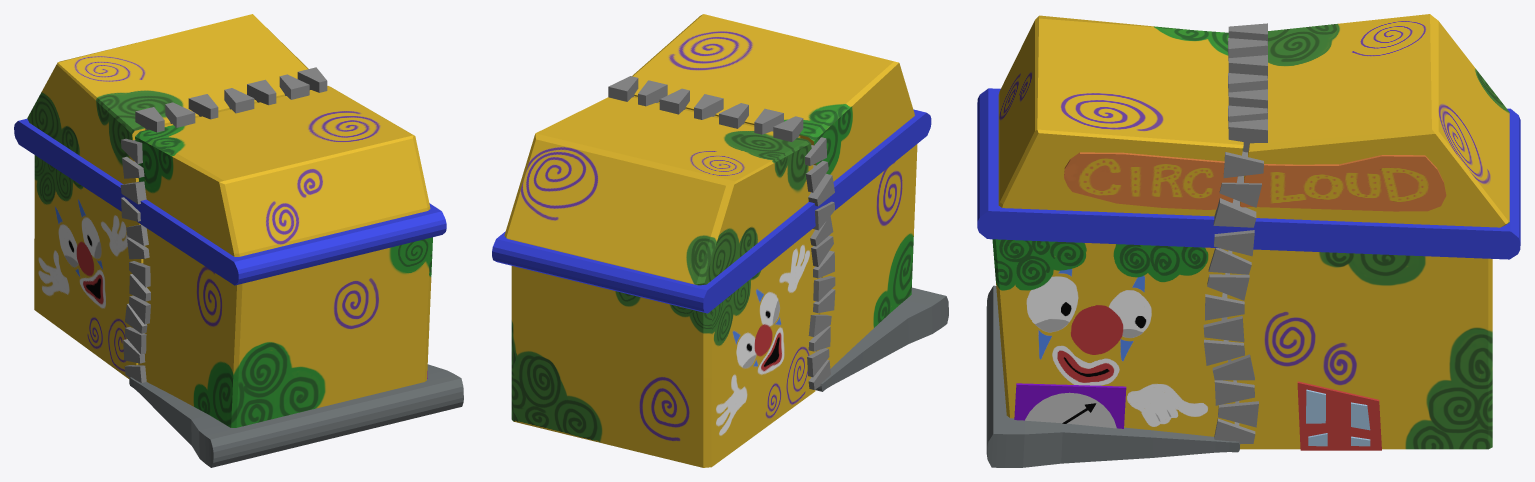
File: FBX_Company5.fbx
3 views of the same model, side by side, from view 1: azimuth 30°, elevation 25°; view 2: azimuth 150°, elevation 25°; view 3: azimuth 270°, elevation 25° (orthographic). The views are drawn at different scales.
Visible parts, largest first — view 1: Cube.094, Cube.092, Cube.093, Cube.095, Cube.205, Cube.200, Cube.203, Cube.204, Cube.206, Cube.202, Cube.201; view 2: Cube.092, Cube.094, Cube.093, Cube.095, Cube.203, Cube.202, Cube.201, Cube.206, Cube.200, Cube.205, Cube.204, Cube.139; view 3: Cube.092, Cube.094, Cube.093, Cube.110, Cube.095, Cube.113, Cube.111, Circle, Cube.106, Cube.201, Cube.100, Cube.108 (+17 smaller).
Boxes of the visible parts, x1=… form: Cube.094: x1=135, y1=86, x2=432, y2=427; Cube.092: x1=27, y1=14, x2=308, y2=378; Cube.093: x1=14, y1=118, x2=446, y2=285; Cube.095: x1=129, y1=364, x2=463, y2=467; Cube.205: x1=188, y1=94, x2=218, y2=119; Cube.200: x1=279, y1=74, x2=309, y2=99; Cube.203: x1=224, y1=88, x2=254, y2=113; Cube.204: x1=165, y1=102, x2=195, y2=127; Cube.206: x1=135, y1=107, x2=164, y2=132; Cube.202: x1=247, y1=79, x2=276, y2=105; Cube.201: x1=297, y1=67, x2=327, y2=92; Cube.092: x1=504, y1=97, x2=820, y2=467; Cube.094: x1=632, y1=14, x2=917, y2=368; Cube.093: x1=492, y1=109, x2=931, y2=313; Cube.095: x1=815, y1=287, x2=948, y2=391; Cube.203: x1=694, y1=94, x2=723, y2=119; Cube.202: x1=659, y1=88, x2=689, y2=114; Cube.201: x1=608, y1=76, x2=638, y2=101; Cube.206: x1=773, y1=116, x2=803, y2=141; Cube.200: x1=638, y1=80, x2=667, y2=106; Cube.205: x1=719, y1=103, x2=748, y2=128; Cube.204: x1=754, y1=108, x2=783, y2=134; Cube.139: x1=808, y1=173, x2=834, y2=206; Cube.092: x1=1227, y1=14, x2=1509, y2=449; Cube.094: x1=992, y1=15, x2=1243, y2=436; Cube.093: x1=977, y1=88, x2=1520, y2=259; Cube.110: x1=1064, y1=152, x2=1446, y2=211; Cube.095: x1=986, y1=285, x2=1239, y2=467; Cube.113: x1=1297, y1=381, x2=1381, y2=450; Cube.111: x1=1014, y1=383, x2=1126, y2=428; Circle: x1=1025, y1=392, x2=1116, y2=428; Cube.106: x1=1213, y1=198, x2=1256, y2=227; Cube.201: x1=1228, y1=119, x2=1267, y2=152; Cube.100: x1=1212, y1=354, x2=1254, y2=380; Cube.108: x1=1223, y1=151, x2=1263, y2=178.
Bounding box in the file's own units: 2.56 × 3.97 × 2.61.
